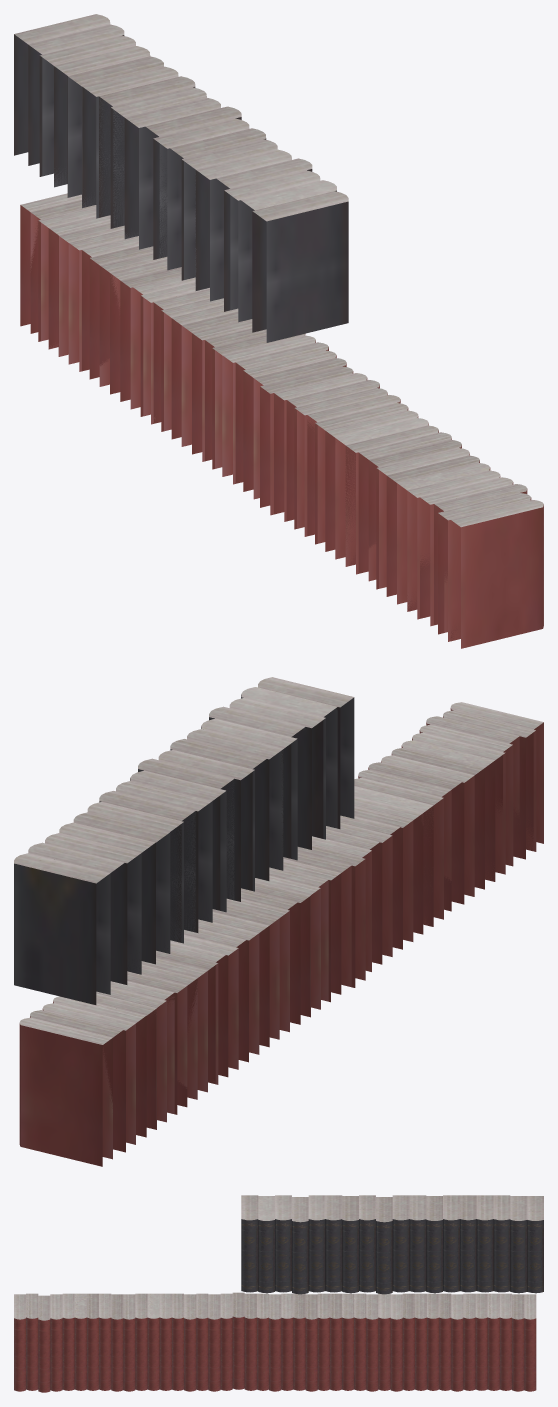
File: ExportLibraryBookEmpty_A.FBX
3 renders of one model, top to bottom at view 1: azimuth 30°, elevation 25°; view 2: azimuth 150°, elevation 25°; view 3: azimuth 270°, elevation 25°, orthographic. The views are drawn at different scales.
Parts seen in each view (by area): view 1: lib_books_empty_A; view 2: lib_books_empty_A; view 3: lib_books_empty_A.
Part boxes in pixels (left/top/right/bottom): lib_books_empty_A: left=14, top=14, right=543, bottom=648; lib_books_empty_A: left=14, top=677, right=543, bottom=1166; lib_books_empty_A: left=14, top=1195, right=543, bottom=1392.
Bounding box in the file's own units: 15.1 × 121 × 42.82.
